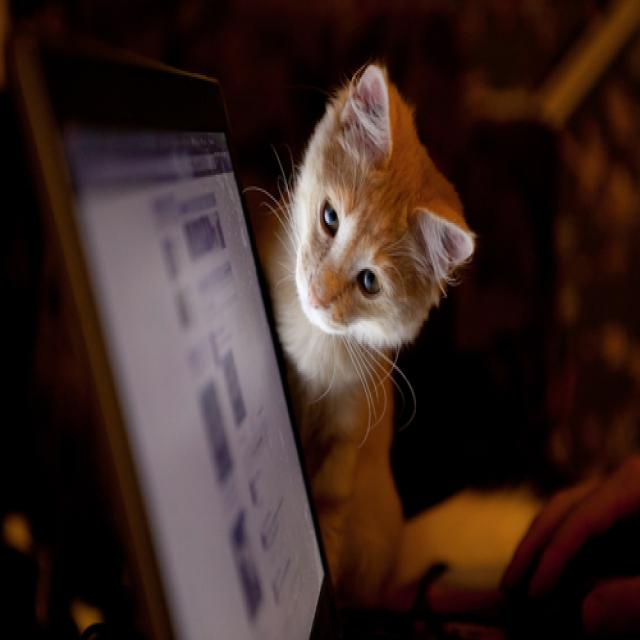cat: (265, 49, 483, 597)
